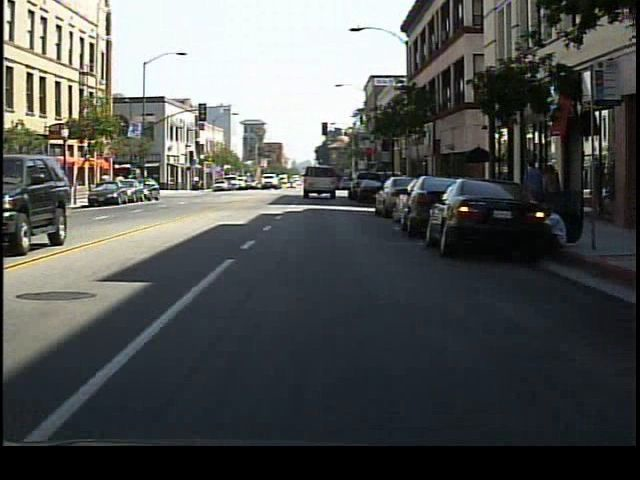person: (518, 151, 544, 225), (538, 158, 562, 222)
